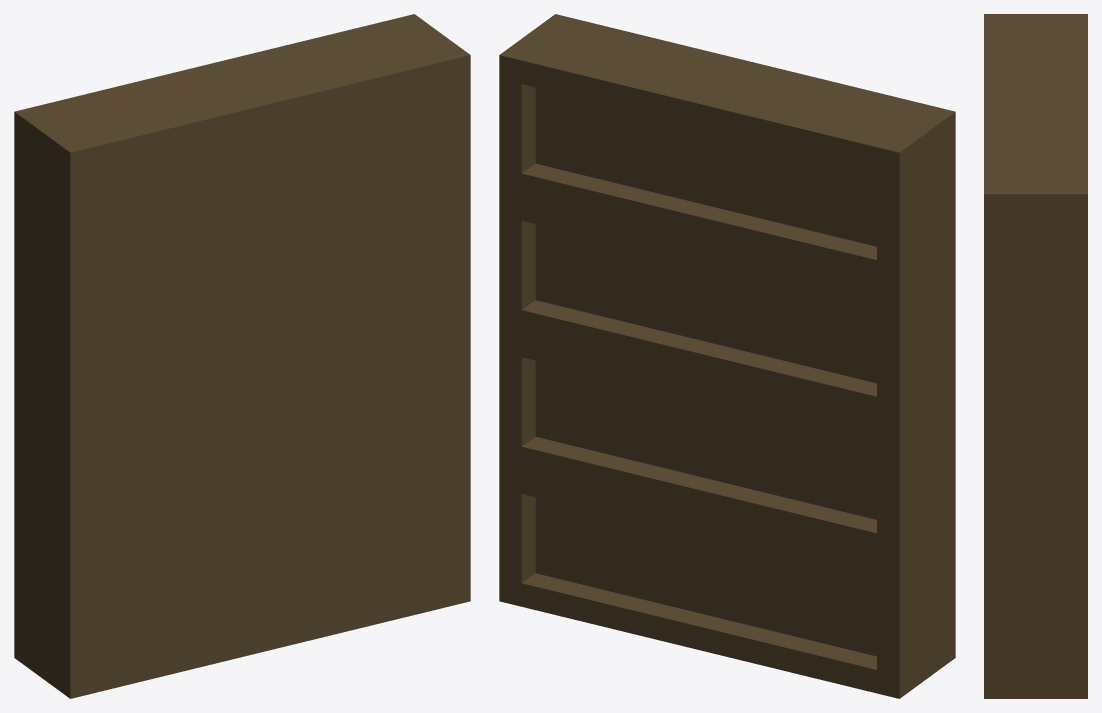
Rendered from bookshelfModel.fbx.
3 views of the same model, side by side, from view 1: azimuth 30°, elevation 25°; view 2: azimuth 150°, elevation 25°; view 3: azimuth 270°, elevation 25° (orthographic). The views are drawn at different scales.
Parts seen in each view (by area): view 1: bookshelfModel; view 2: bookshelfModel; view 3: bookshelfModel.
Part boxes in pixels (x1,y1,x2,y2): bookshelfModel: (14, 14, 470, 698); bookshelfModel: (499, 14, 955, 698); bookshelfModel: (984, 14, 1087, 698).
Size of the model in its own units: 26.67 by 34.79 by 6.48.
